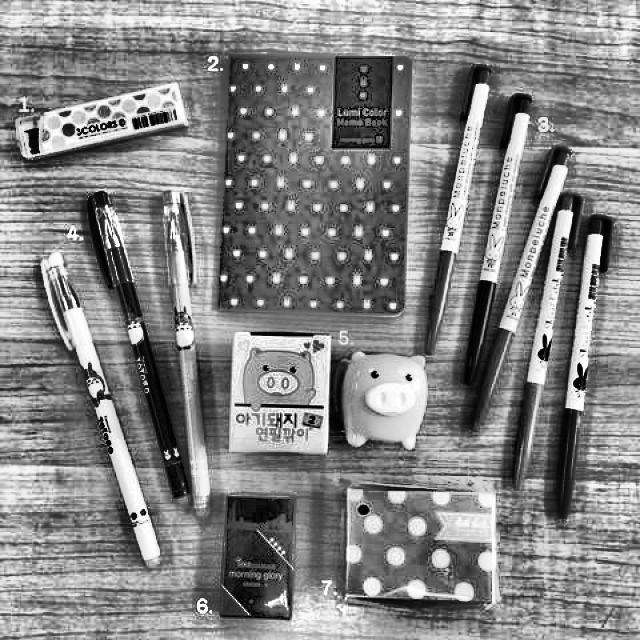Notebook: (217, 55, 412, 325)
Pen: (40, 250, 165, 575), (83, 191, 195, 514), (469, 139, 576, 437), (461, 94, 535, 389), (425, 62, 492, 360), (163, 189, 215, 524)
eraser: (331, 349, 430, 453)
